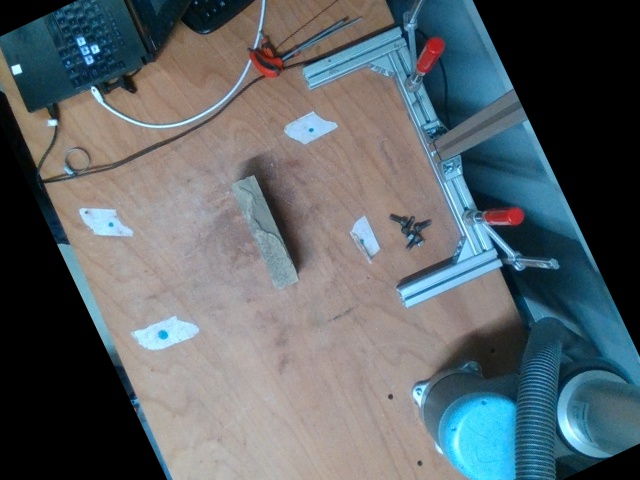brick-side: (232, 176, 296, 289)
